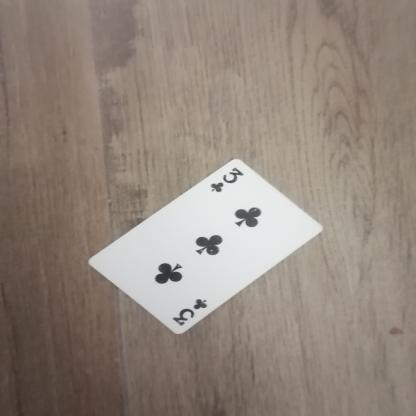3C: (168, 290, 216, 326), (209, 166, 248, 196)
